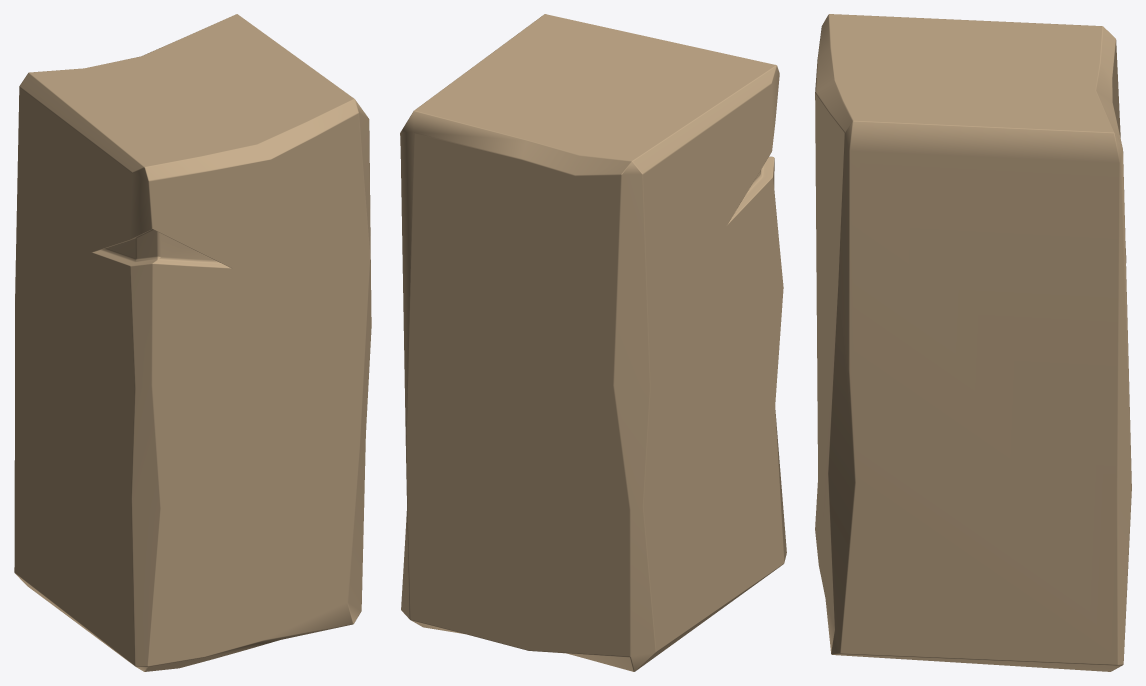
File: brick04s1.glb
3 renders of one model, left to right at view 1: azimuth 30°, elevation 25°; view 2: azimuth 150°, elevation 25°; view 3: azimuth 270°, elevation 25°, orthographic. The views are drawn at different scales.
Visible parts, largest first — view 1: Brick02.s1; view 2: Brick02.s1; view 3: Brick02.s1.
Boxes of the visible parts, x1,y1,x2,y2 form: Brick02.s1: (14, 14, 371, 671); Brick02.s1: (400, 14, 786, 671); Brick02.s1: (815, 14, 1131, 671).
Bounding box in the file's own units: 0.3772 × 0.7634 × 0.3975.
